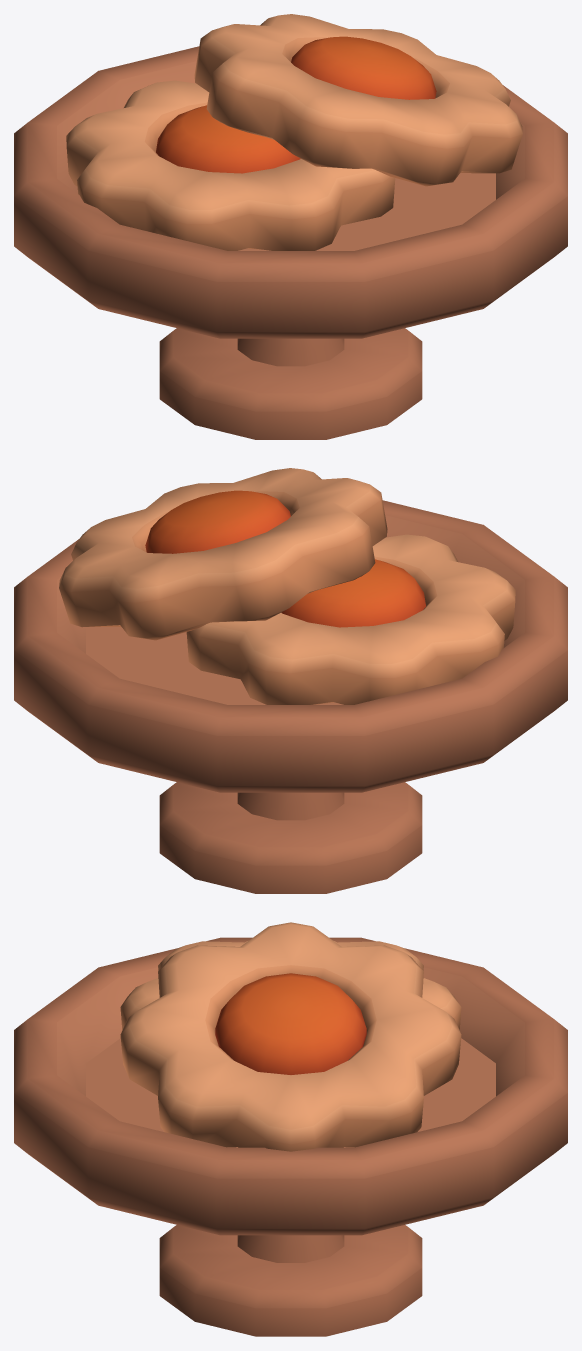
File: pastry-stand-a-decorated.glb
3 views of the same model, one above another, from view 1: azimuth 30°, elevation 25°; view 2: azimuth 150°, elevation 25°; view 3: azimuth 270°, elevation 25° (orthographic).
Visible parts, largest first — view 1: pastry_stand_A_decorated; view 2: pastry_stand_A_decorated; view 3: pastry_stand_A_decorated.
Part boxes in pixels (x1,y1,x2,y2): pastry_stand_A_decorated: (14, 14, 567, 439); pastry_stand_A_decorated: (14, 468, 567, 893); pastry_stand_A_decorated: (14, 922, 567, 1336).
Bounding box in the file's own units: 0.8 × 0.5299 × 0.8.
1 material, 1 textured.
